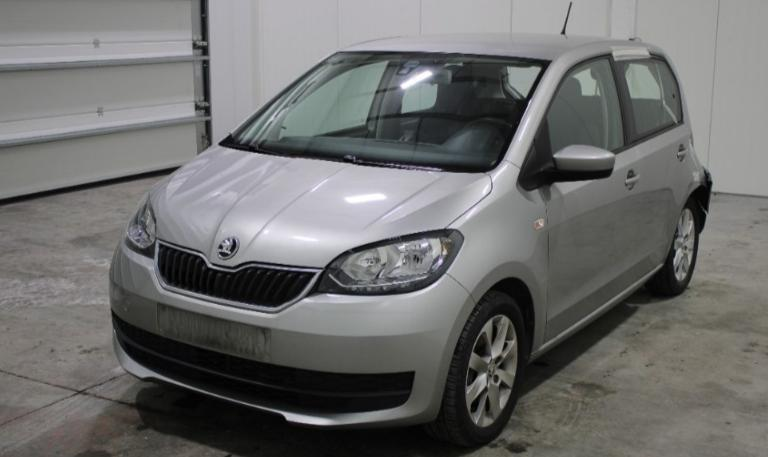Broken part: (700, 165, 713, 234)
Missing part: (157, 301, 269, 359)
